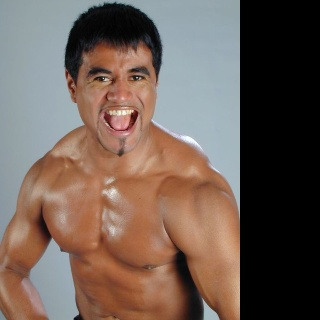without_mask: (63, 40, 160, 157)
